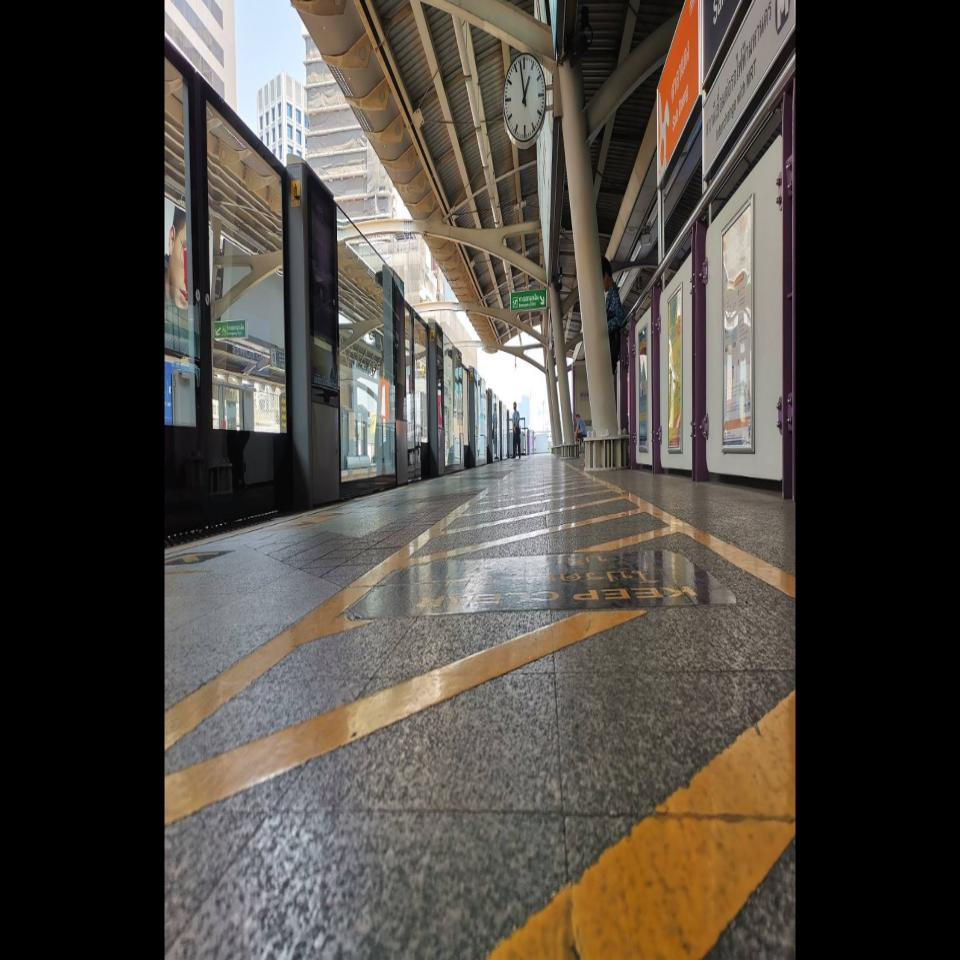Sala Daeng: (656, 0, 700, 190)
